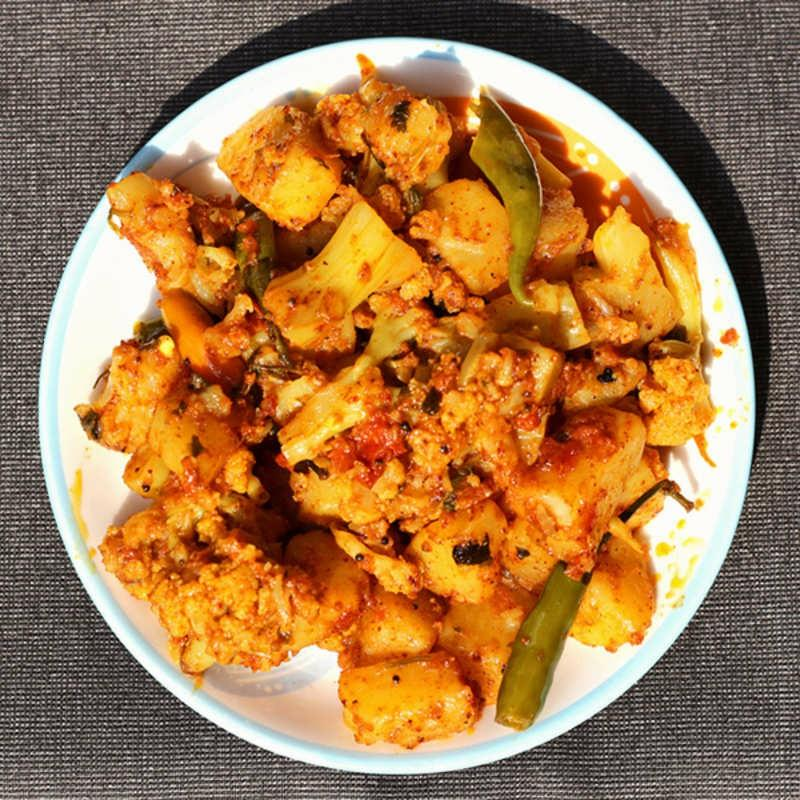AlooGobi: (73, 54, 718, 749)
